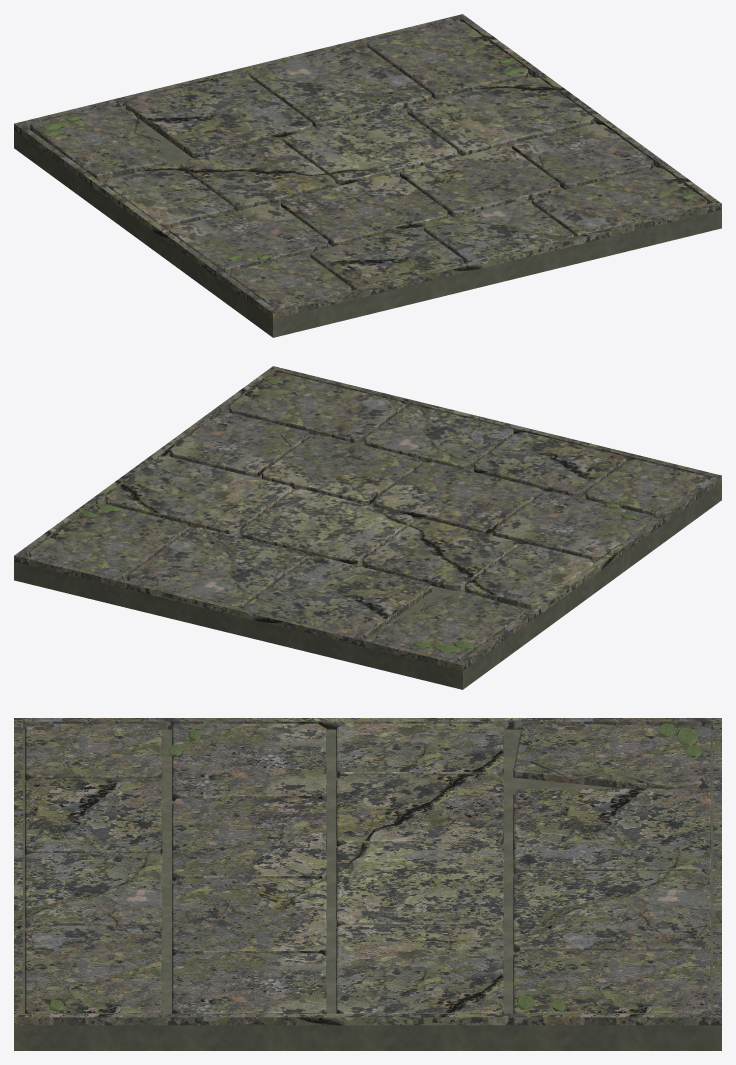
File: mod_sacred_stone_floor_4m.glb
3 views of the same model, one above another, from view 1: azimuth 30°, elevation 25°; view 2: azimuth 150°, elevation 25°; view 3: azimuth 270°, elevation 25° (orthographic). The views are drawn at different scales.
Visible parts, largest first — view 1: sacred_weathered_stone_surface, sacred_earth_mortar_surface, sacred_velvet_moss_surface; view 2: sacred_weathered_stone_surface, sacred_earth_mortar_surface, sacred_velvet_moss_surface; view 3: sacred_weathered_stone_surface, sacred_earth_mortar_surface, sacred_velvet_moss_surface.
Part boxes in pixels (x1,y1,x2,y2): sacred_weathered_stone_surface: (14,14,721,318); sacred_earth_mortar_surface: (14,46,721,337); sacred_velvet_moss_surface: (42,58,697,260); sacred_weathered_stone_surface: (14,366,721,670); sacred_earth_mortar_surface: (14,410,721,689); sacred_velvet_moss_surface: (81,378,636,653); sacred_weathered_stone_surface: (14,718,721,1025); sacred_earth_mortar_surface: (14,729,721,1050); sacred_velvet_moss_surface: (49,724,701,1011).
Size of the model in its own units: 4 by 0.2302 by 4.
Materials: 3 (3 with a texture image).
